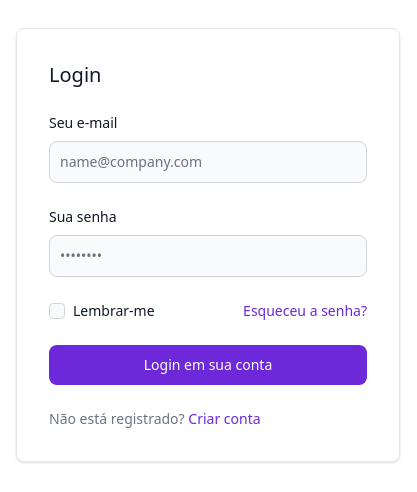
Scenario: SignIn Component Tests › shows an error message when the password is not provided
Type "test@example.com" into the field with placeholder "name@company.com" at (208, 162), box left=49, top=141, right=367, bottom=183
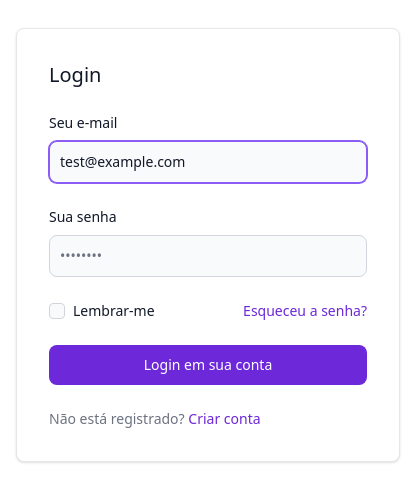
Click the button "Login em sua conta" at (208, 365), box left=49, top=345, right=367, bottom=385
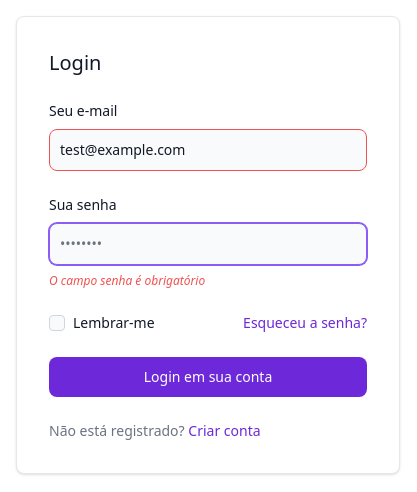
Check: the text "O campo senha é obrigatório" is shown, box left=49, top=272, right=205, bottom=289
